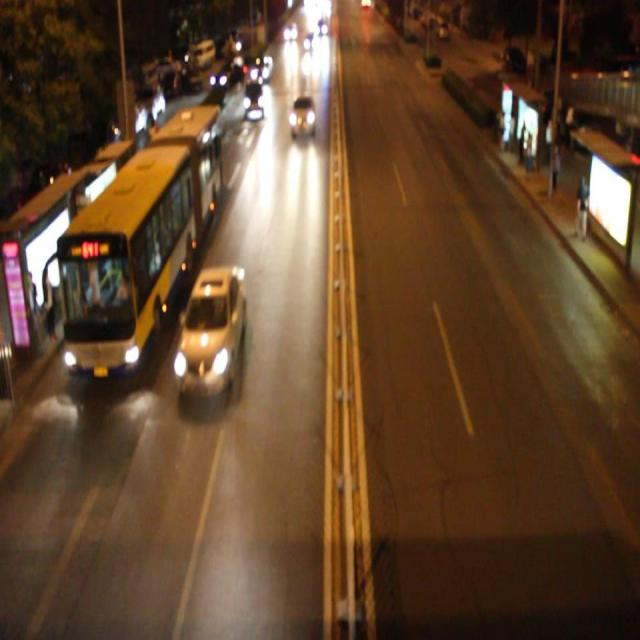car: (176, 264, 247, 392), (289, 93, 316, 136), (250, 51, 274, 82)
truck: (244, 76, 265, 115)
van: (59, 105, 221, 375)
